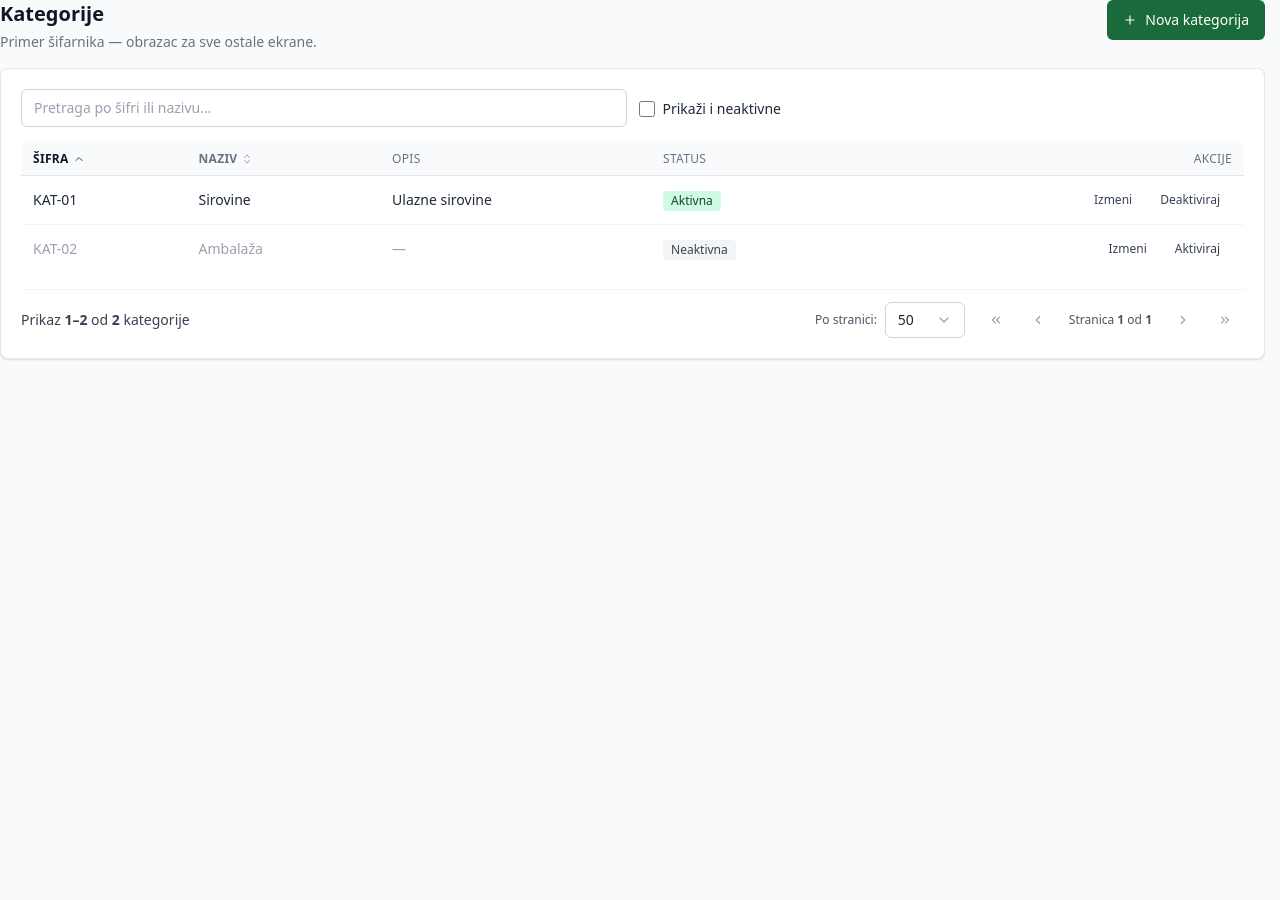
KategorijePage — prava i akcije › duplikat šifre (422) ostaje u formi kao poruka
The image size is (1280, 900).
Check: the text "Sirovine" is shown, box [186, 176, 380, 224]
Click the button "Nova kategorija" at (1186, 20), box [1107, 0, 1265, 40]
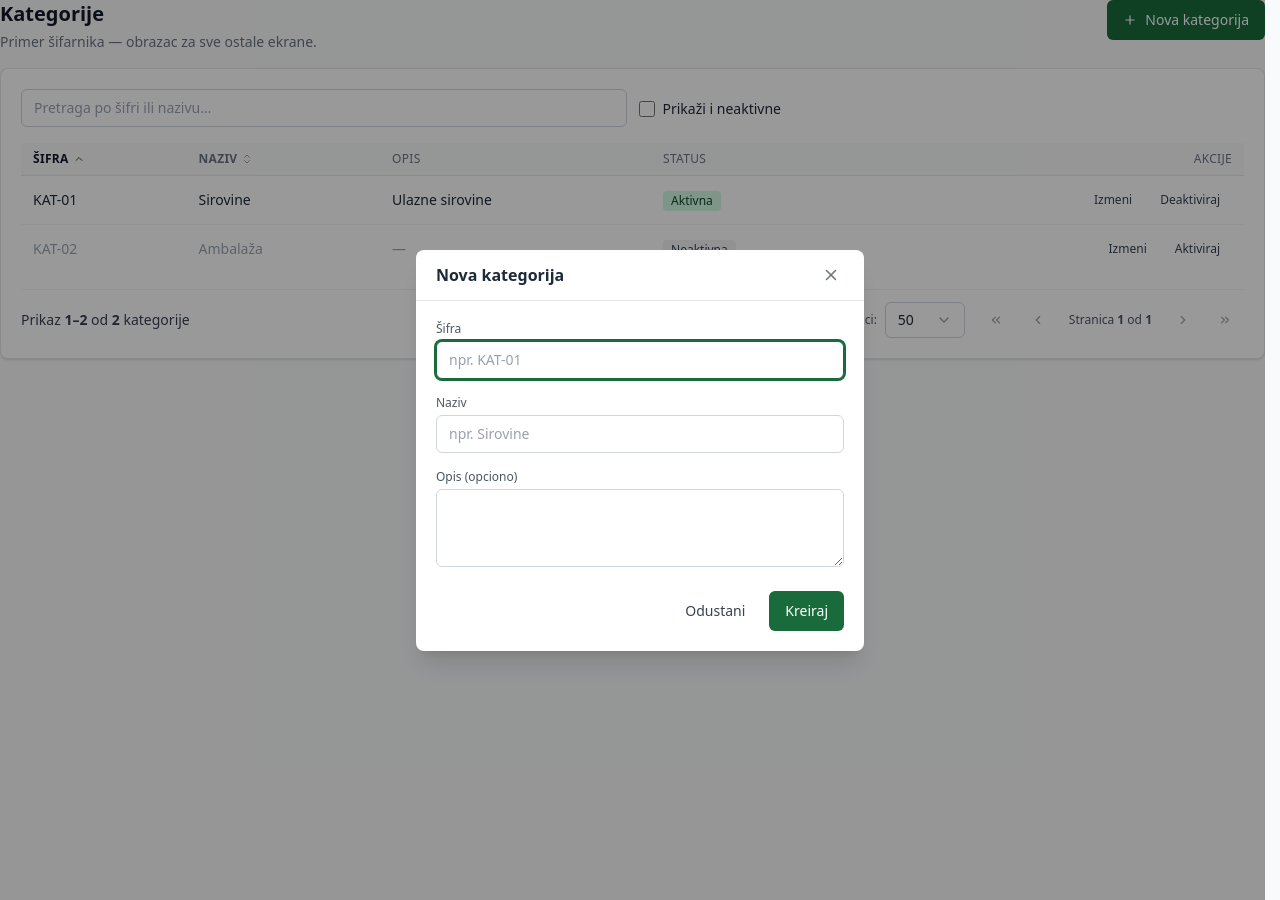
Type "KAT-01" into the field labelled "Šifra" at (640, 360), box [436, 340, 844, 378]
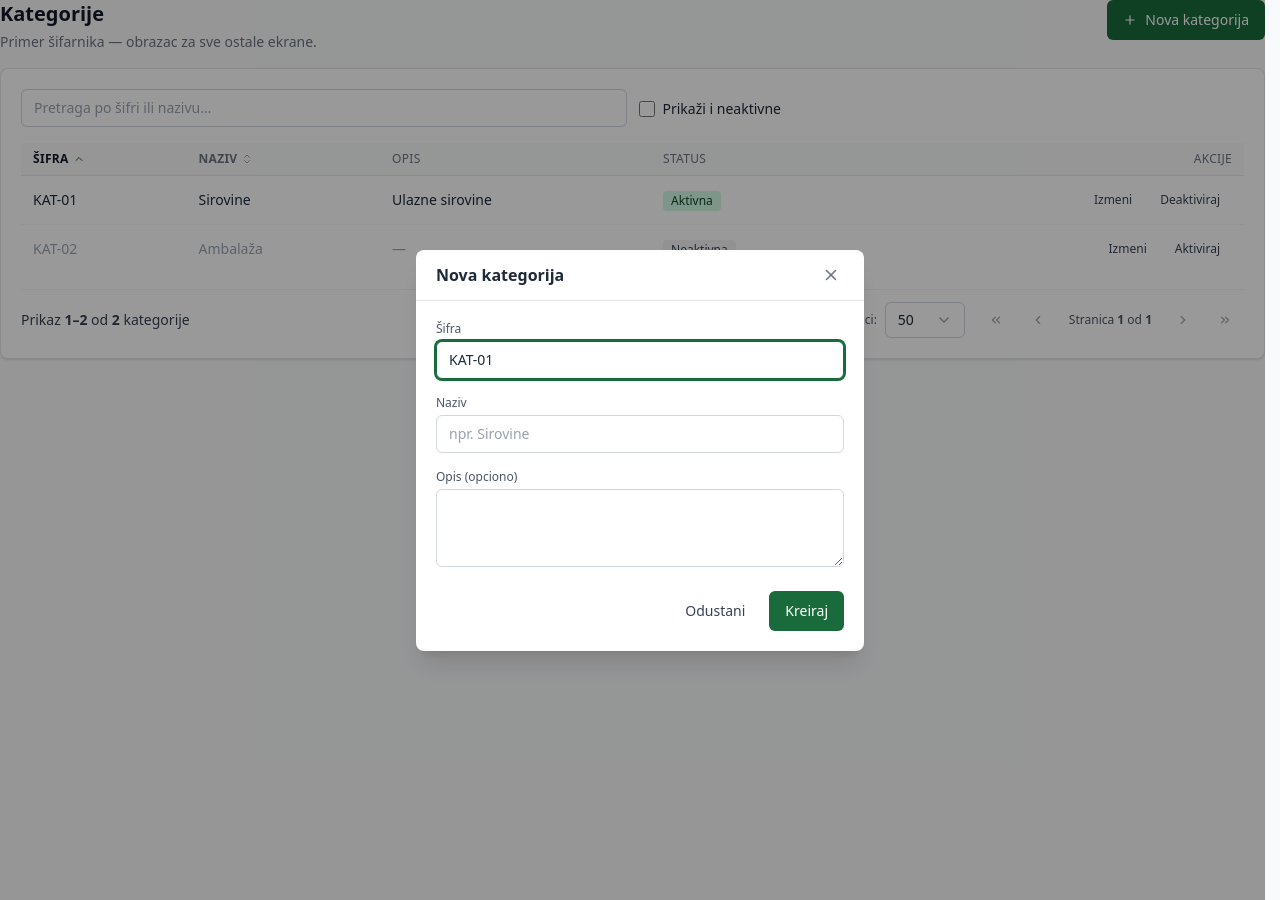
Type "Duplikat" into the field labelled "Naziv" at (640, 434), box [436, 414, 844, 452]
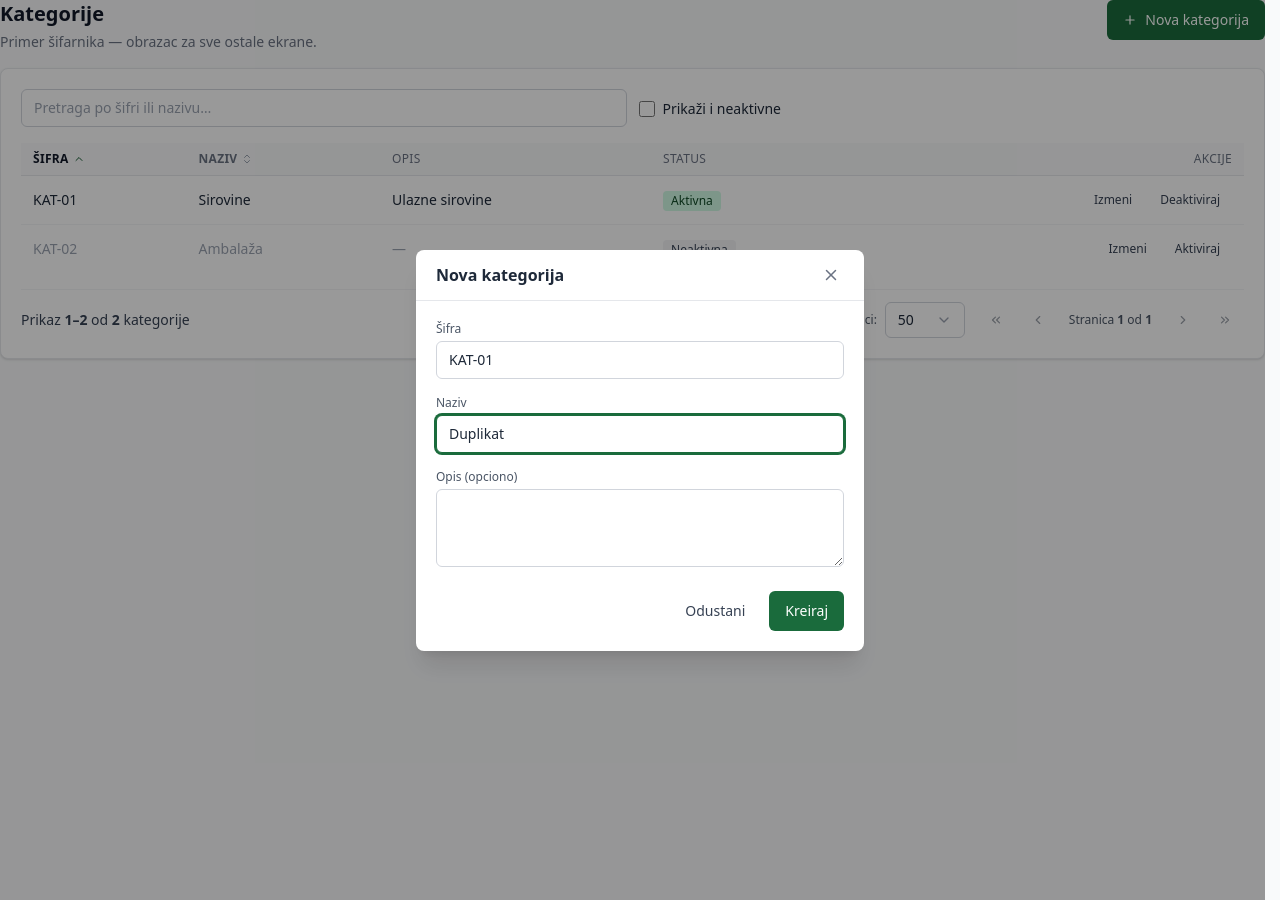
Click the button "Kreiraj" at (807, 610), box [769, 590, 844, 630]
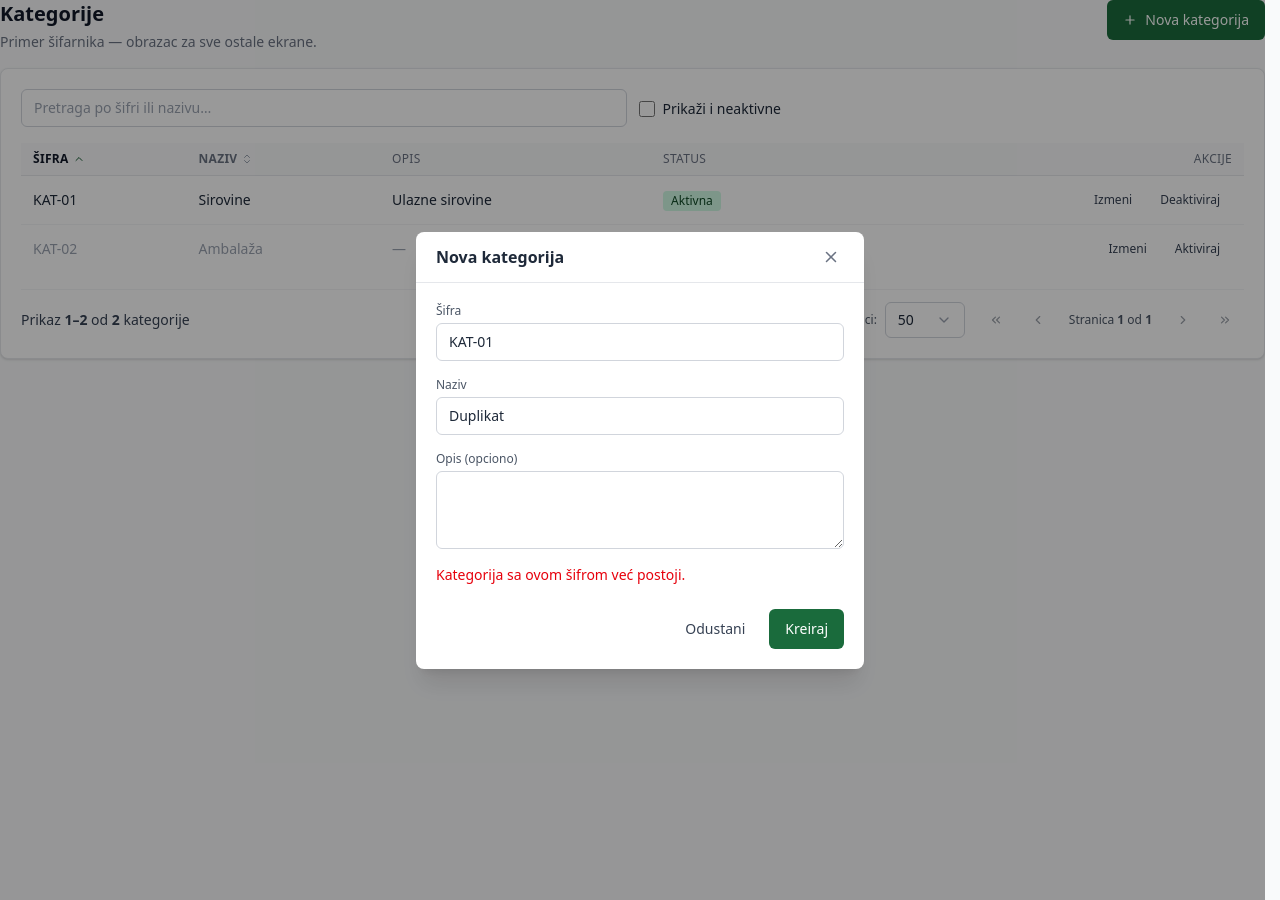
Check: the text "Kategorija sa ovom šifrom već postoji." is shown, box [436, 564, 685, 584]
